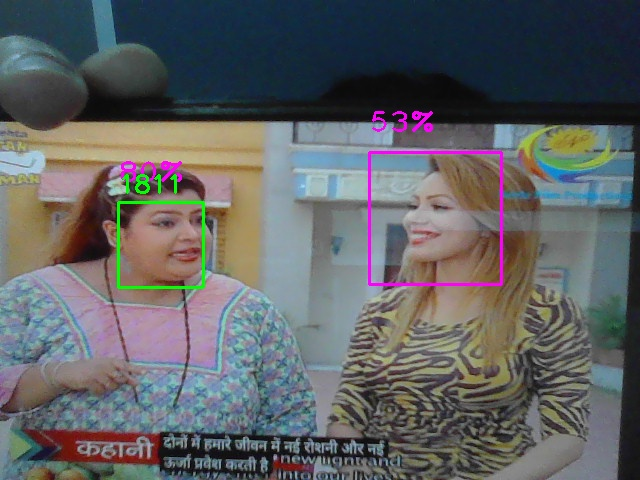fake: (118, 202, 204, 288)
